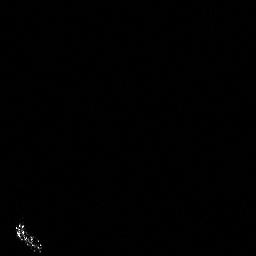ship: (10, 219, 48, 255)
